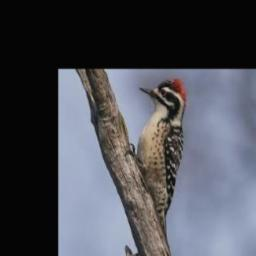Woodpecker: (125, 78, 188, 238)
